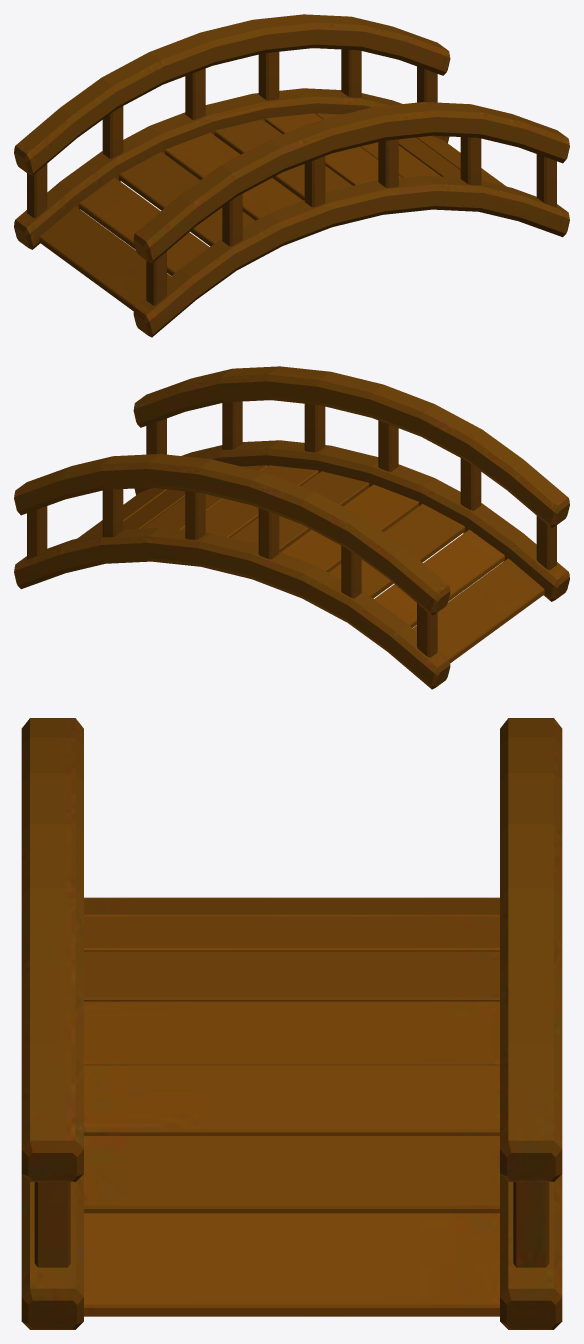
File: bridge_arch.glb
3 views of the same model, one above another, from view 1: azimuth 30°, elevation 25°; view 2: azimuth 150°, elevation 25°; view 3: azimuth 270°, elevation 25° (orthographic). The views are drawn at different scales.
Parts seen in each view (by area): view 1: bridge_arch; view 2: bridge_arch; view 3: bridge_arch.
Part boxes in pixels (<box>): bridge_arch: <box>14,14,569,337</box>; bridge_arch: <box>14,366,569,689</box>; bridge_arch: <box>21,718,562,1329</box>.
Bounding box in the file's own units: 4.36 × 1.62 × 2.4.
1 material, 1 textured.
